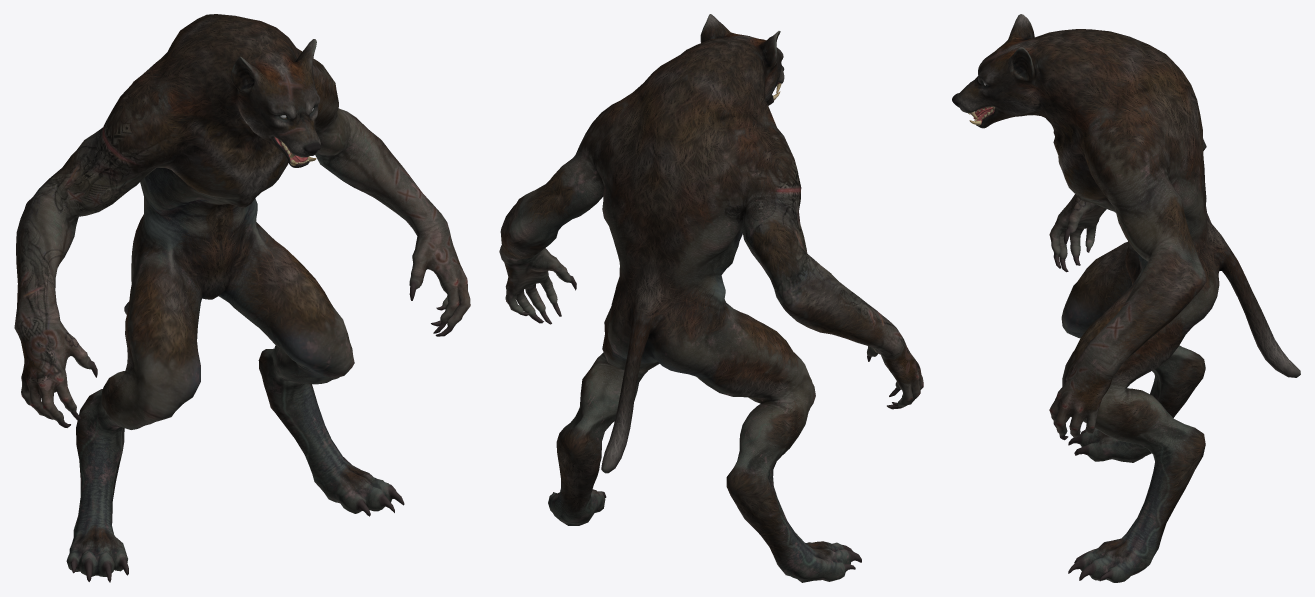
The model's file is werewolf.fbx.
3 views of the same model, side by side, from view 1: azimuth 30°, elevation 25°; view 2: azimuth 150°, elevation 25°; view 3: azimuth 270°, elevation 25° (orthographic). The views are drawn at different scales.
Visible parts, largest first — view 1: body; view 2: body; view 3: body.
Boxes of the visible parts, x1,y1,x2,y2 form: body: (14, 14, 470, 582); body: (499, 14, 923, 582); body: (952, 14, 1300, 582).
Size of the model in its own units: 205 by 235 by 153.
